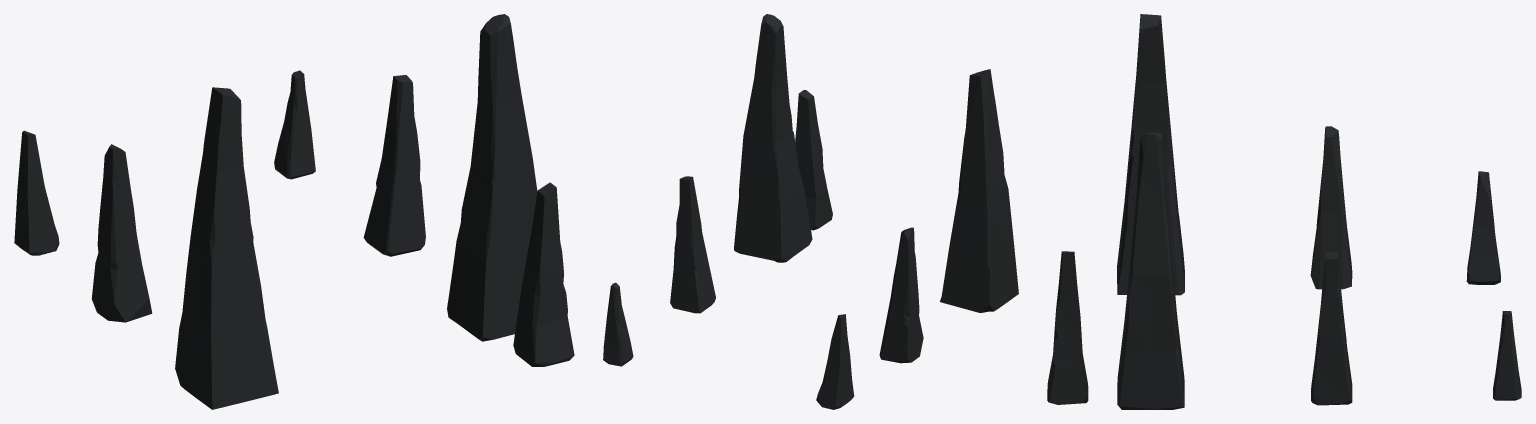
Rendered from Portal_01.glb.
3 renders of one model, left to right at view 1: azimuth 30°, elevation 25°; view 2: azimuth 150°, elevation 25°; view 3: azimuth 270°, elevation 25°, orthographic. The views are drawn at different scales.
Parts seen in each view (by area): view 1: Portal_01; view 2: Portal_01; view 3: Portal_01.
Part boxes in pixels (bbox=[...]): Portal_01: bbox=[14, 14, 574, 409]; Portal_01: bbox=[603, 14, 1018, 409]; Portal_01: bbox=[1047, 14, 1521, 409].
Size of the model in its own units: 4.59 by 3.95 by 6.37.
1 material, 1 textured.
